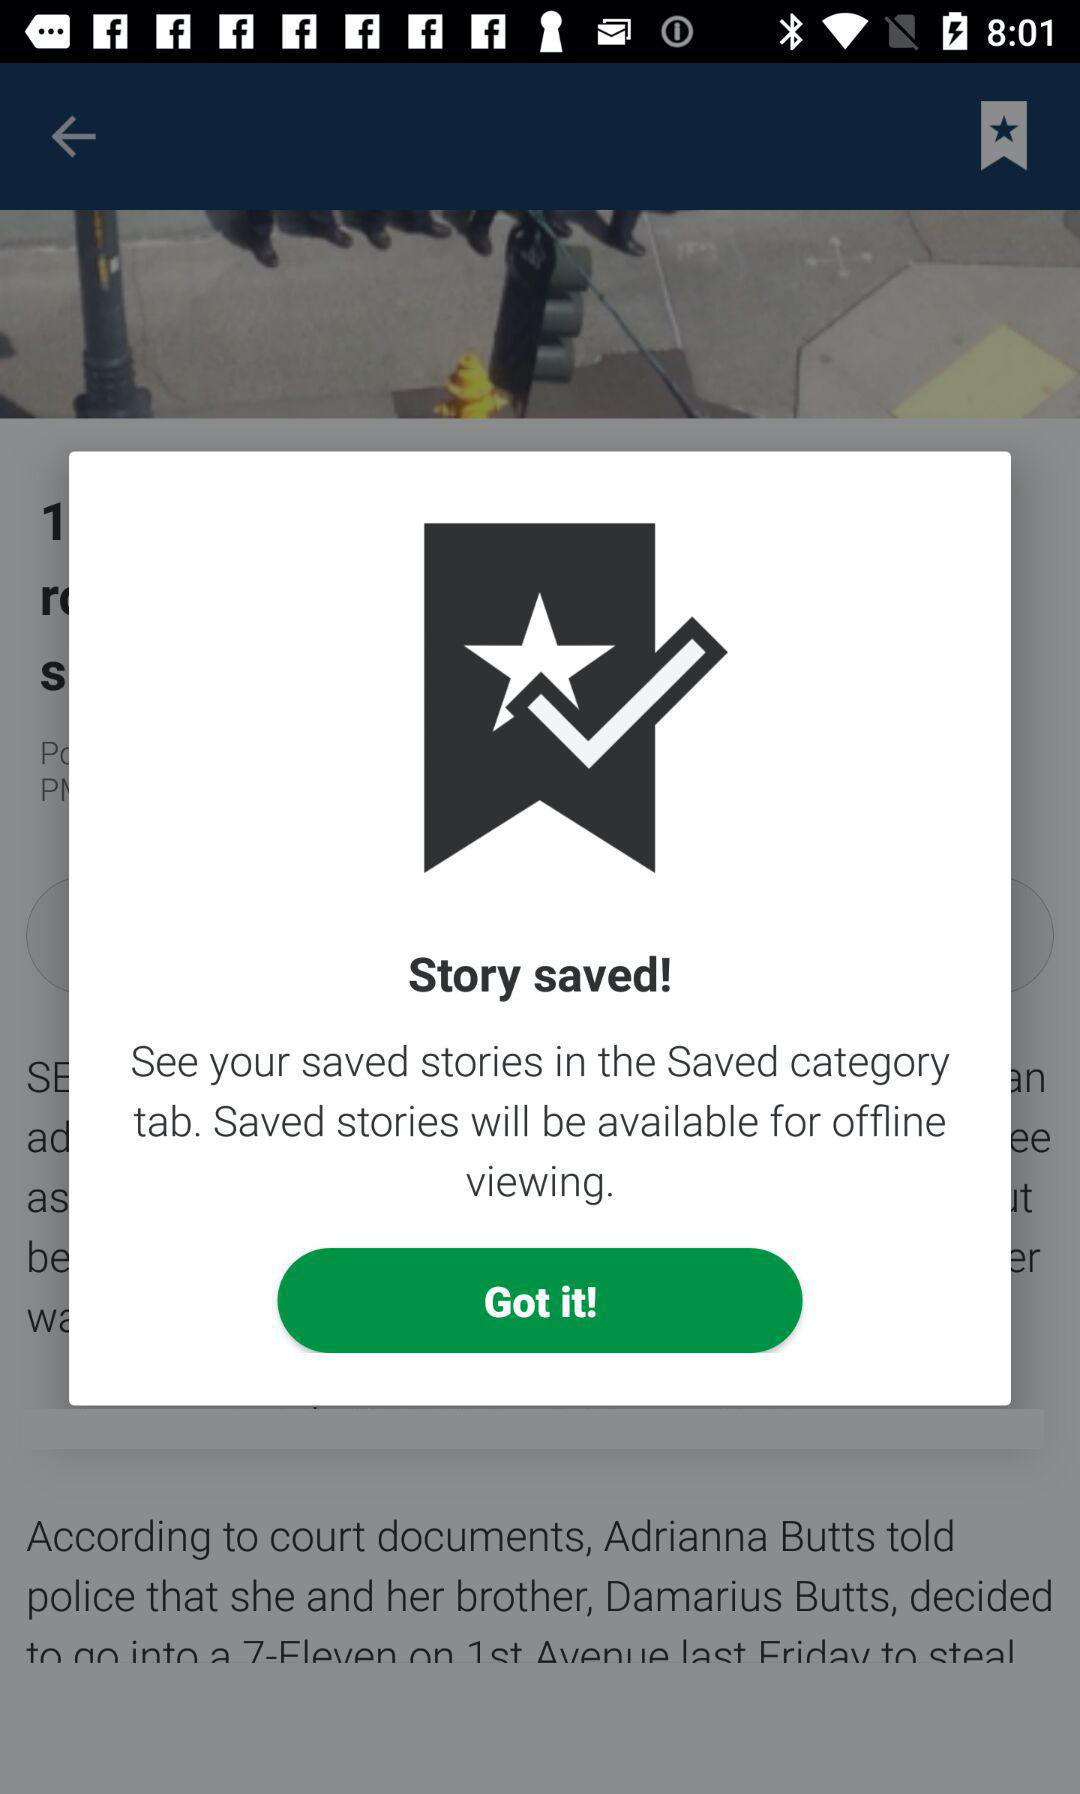Icon: (980, 101, 1027, 173), (50, 114, 97, 159)
Image: (423, 523, 729, 874)
Modal: (69, 451, 1012, 1407)
Text: (131, 1043, 951, 1206), (410, 953, 671, 1003)
TextButton: (277, 1247, 805, 1354)
UpperTaskBar: (1, 1, 1080, 64)
